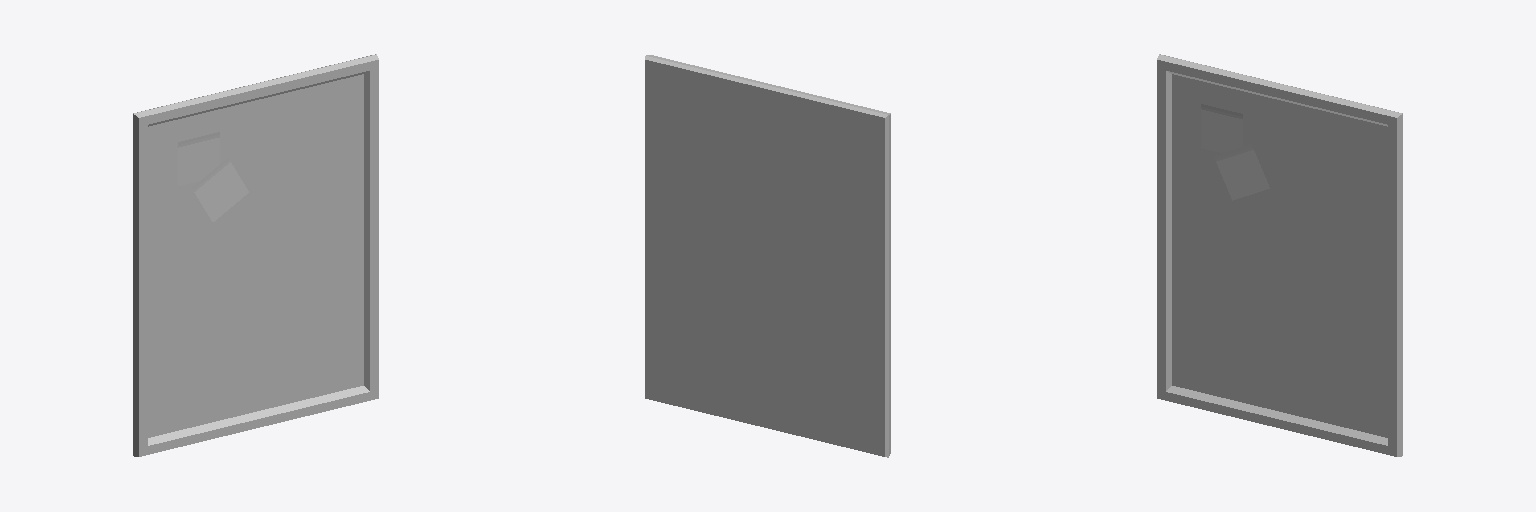
3 renders of one model, left to right at view 1: azimuth 30°, elevation 25°; view 2: azimuth 150°, elevation 25°; view 3: azimuth 330°, elevation 25°, orthographic.
Parts seen in each view (by area): view 1: Bulletin_board_01_Cube.031, Bulletin_board_01.002_Cube.042, Bulletin_board_01.001_Cube.041; view 2: Bulletin_board_01_Cube.031; view 3: Bulletin_board_01_Cube.031, Bulletin_board_01.002_Cube.042, Bulletin_board_01.001_Cube.041.
Part boxes in pixels (left/top/right/bottom): Bulletin_board_01_Cube.031: left=133, top=54, right=378, bottom=456; Bulletin_board_01.002_Cube.042: left=192, top=158, right=248, bottom=221; Bulletin_board_01.001_Cube.041: left=178, top=132, right=219, bottom=185; Bulletin_board_01_Cube.031: left=645, top=55, right=890, bottom=457; Bulletin_board_01_Cube.031: left=1157, top=54, right=1402, bottom=456; Bulletin_board_01.002_Cube.042: left=1213, top=144, right=1269, bottom=200; Bulletin_board_01.001_Cube.041: left=1201, top=104, right=1242, bottom=152.
Size of the model in its own units: 10.03 by 13.5 by 0.444.